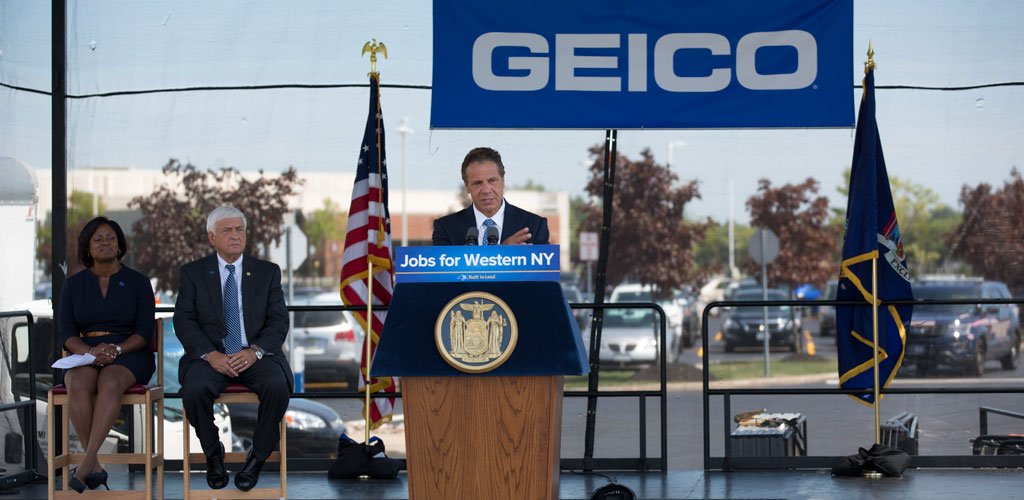geico: (468, 28, 830, 96)
